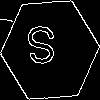S: (25, 25, 58, 74)
